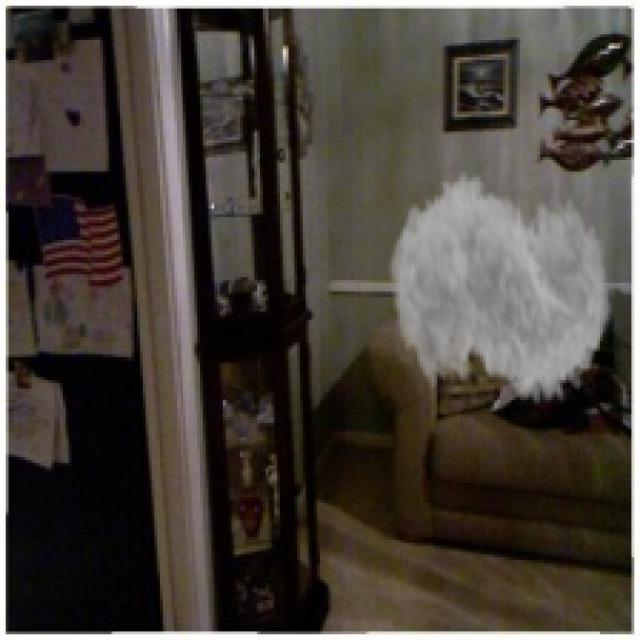smoke: (388, 152, 612, 434)
